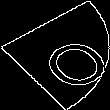O_NW: (9, 22, 101, 88)
